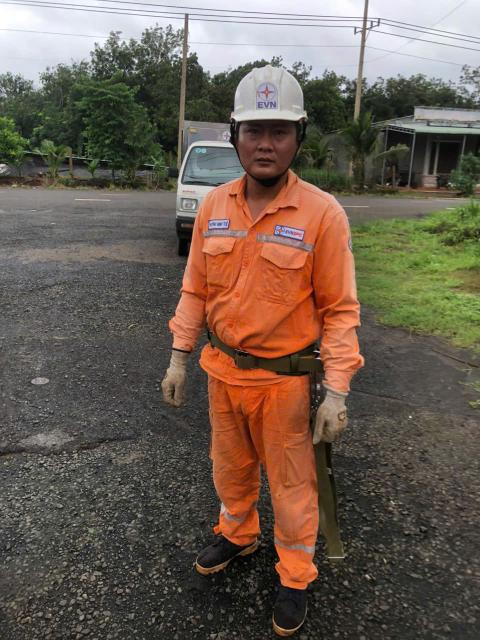gloves: (141, 352, 206, 412), (308, 384, 365, 447)
harness: (201, 317, 329, 378)
helmet: (208, 64, 324, 138)
shoes: (191, 515, 260, 581), (266, 570, 327, 637)
